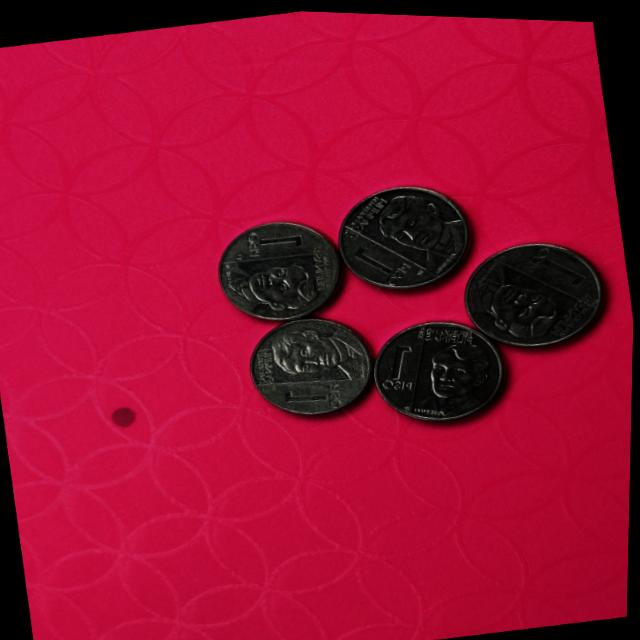1_New_Front: (523, 233, 587, 291), (348, 235, 415, 290), (276, 367, 348, 417), (238, 214, 313, 262), (369, 334, 426, 397)
